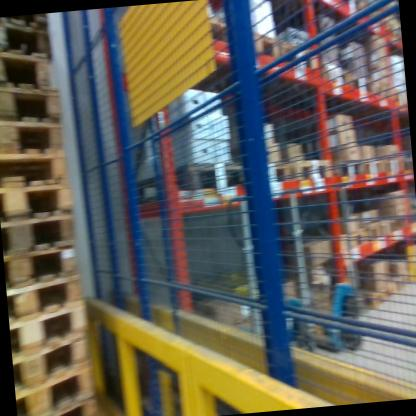pallet: (123, 147, 261, 221), (12, 334, 101, 390), (15, 363, 108, 416), (6, 239, 86, 300), (9, 305, 88, 364), (1, 208, 78, 264), (7, 279, 89, 331), (0, 39, 63, 103), (0, 80, 67, 137), (0, 181, 74, 228), (0, 119, 74, 161), (0, 149, 75, 189), (265, 36, 322, 79), (0, 18, 56, 59), (30, 390, 105, 416), (189, 9, 239, 43), (297, 154, 335, 192), (237, 26, 279, 58), (262, 159, 298, 194), (337, 228, 374, 262), (308, 58, 349, 87), (327, 156, 361, 186), (340, 72, 376, 100), (335, 0, 368, 18), (357, 159, 383, 181)
pallet_truck: (293, 140, 376, 365), (210, 185, 288, 357), (275, 155, 336, 364)
